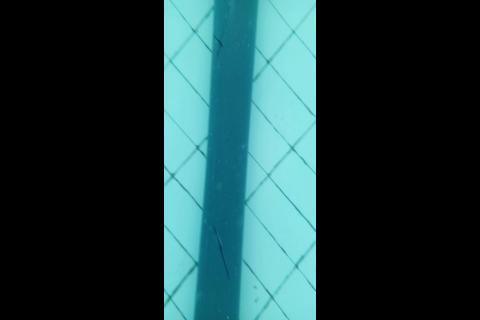keretakan: (212, 225, 231, 281), (213, 21, 224, 64)
